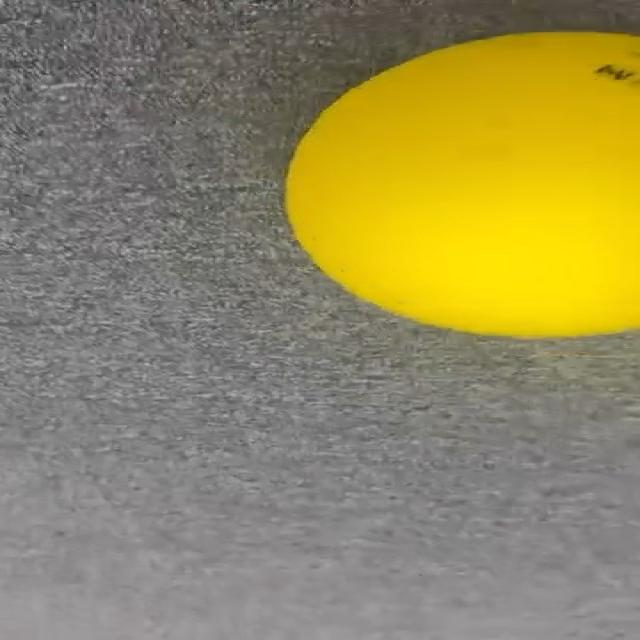Fuels: (281, 31, 640, 338)
